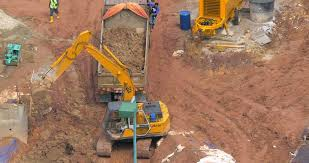excavator: (32, 30, 176, 162)
